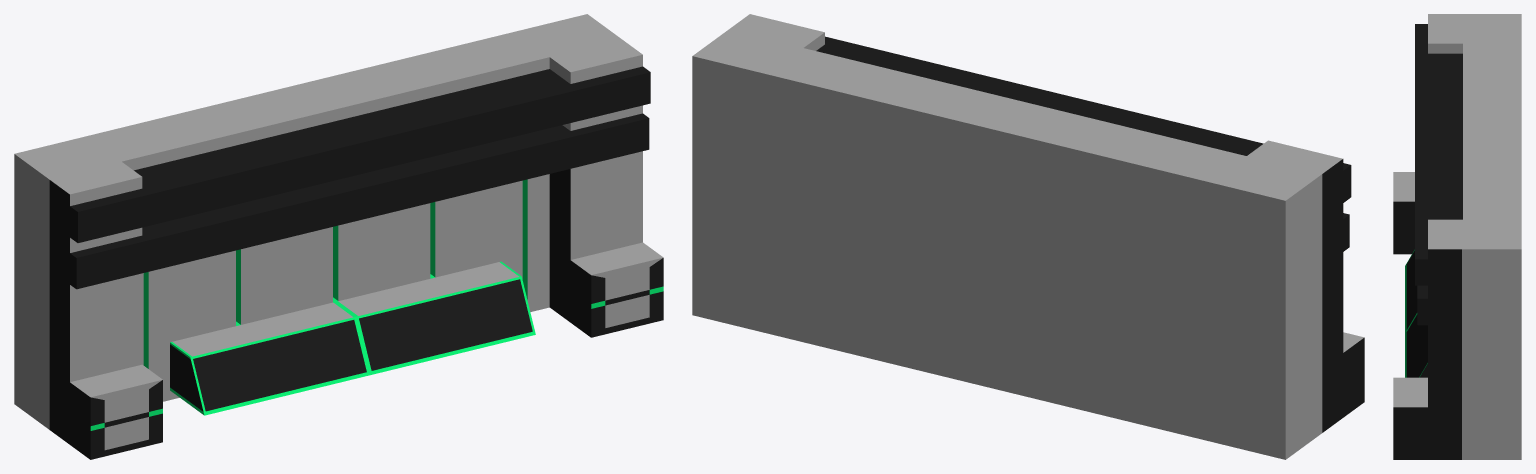
Rendered from Wall2.fbx.
3 views of the same model, side by side, from view 1: azimuth 30°, elevation 25°; view 2: azimuth 150°, elevation 25°; view 3: azimuth 270°, elevation 25° (orthographic). The views are drawn at different scales.
Visible parts, largest first — view 1: Wall2; view 2: Wall2; view 3: Wall2.
Part boxes in pixels (bbox=[...]): Wall2: bbox=[14, 14, 663, 459]; Wall2: bbox=[692, 14, 1364, 459]; Wall2: bbox=[1393, 14, 1521, 459].
Size of the model in its own units: 3594 by 1500 by 829.
